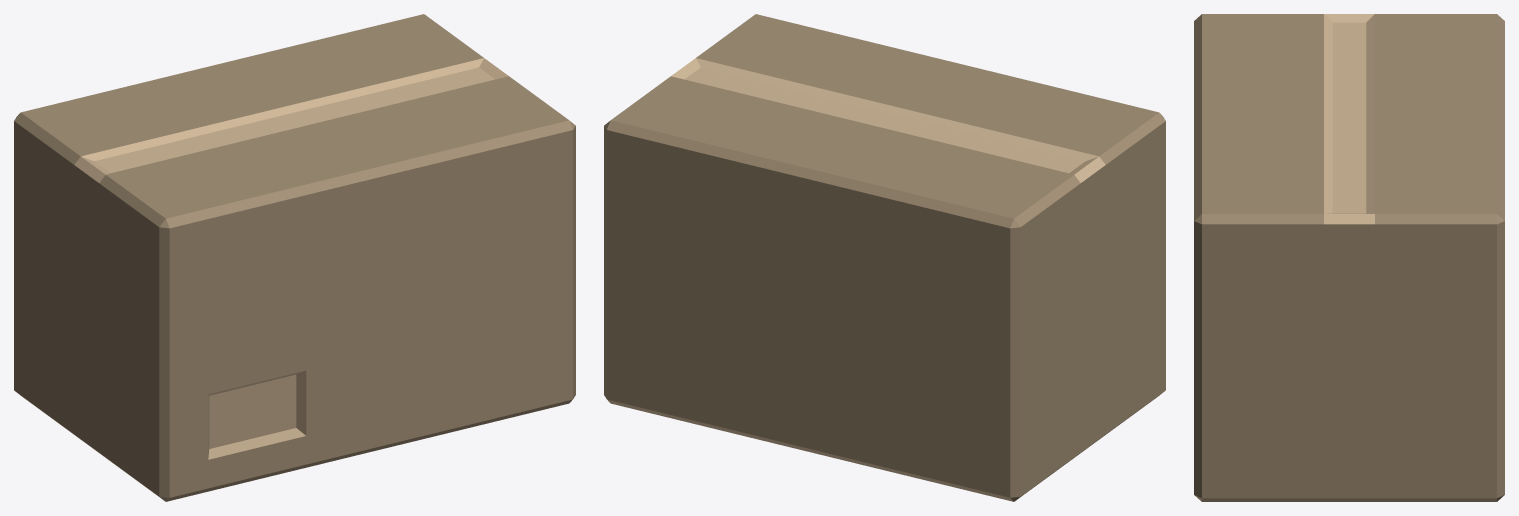
The model's file is Box_Closed.fbx.
The picture shows the model from 3 angles, left to right: view 1: azimuth 30°, elevation 25°; view 2: azimuth 150°, elevation 25°; view 3: azimuth 270°, elevation 25°; orthographic projection.
Parts seen in each view (by area): view 1: pCube2; view 2: pCube2; view 3: pCube2.
Boxes of the visible parts, <box> form: pCube2: <box>14,14,575,501</box>; pCube2: <box>604,14,1165,501</box>; pCube2: <box>1194,14,1504,501</box>.
Size of the model in its own units: 7.25 by 4.71 by 4.61.
